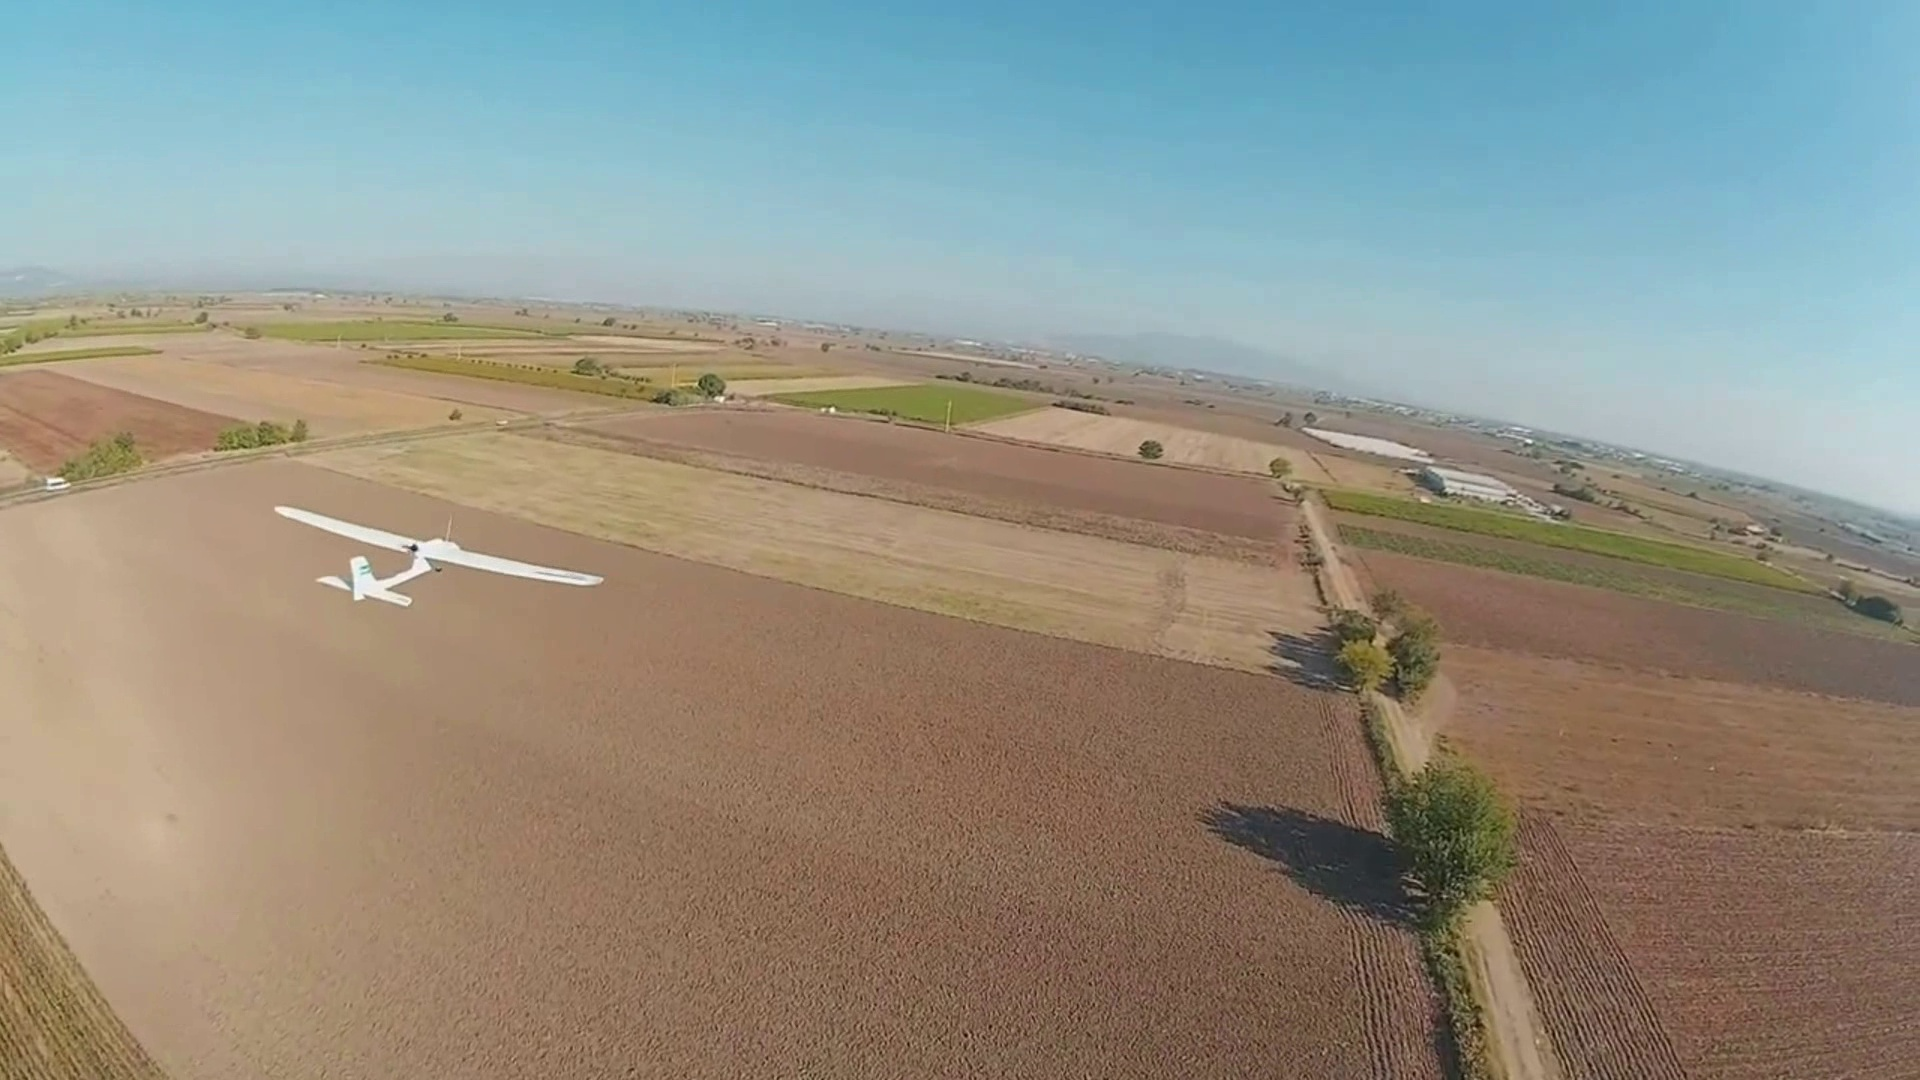airplane: (271, 497, 602, 607)
